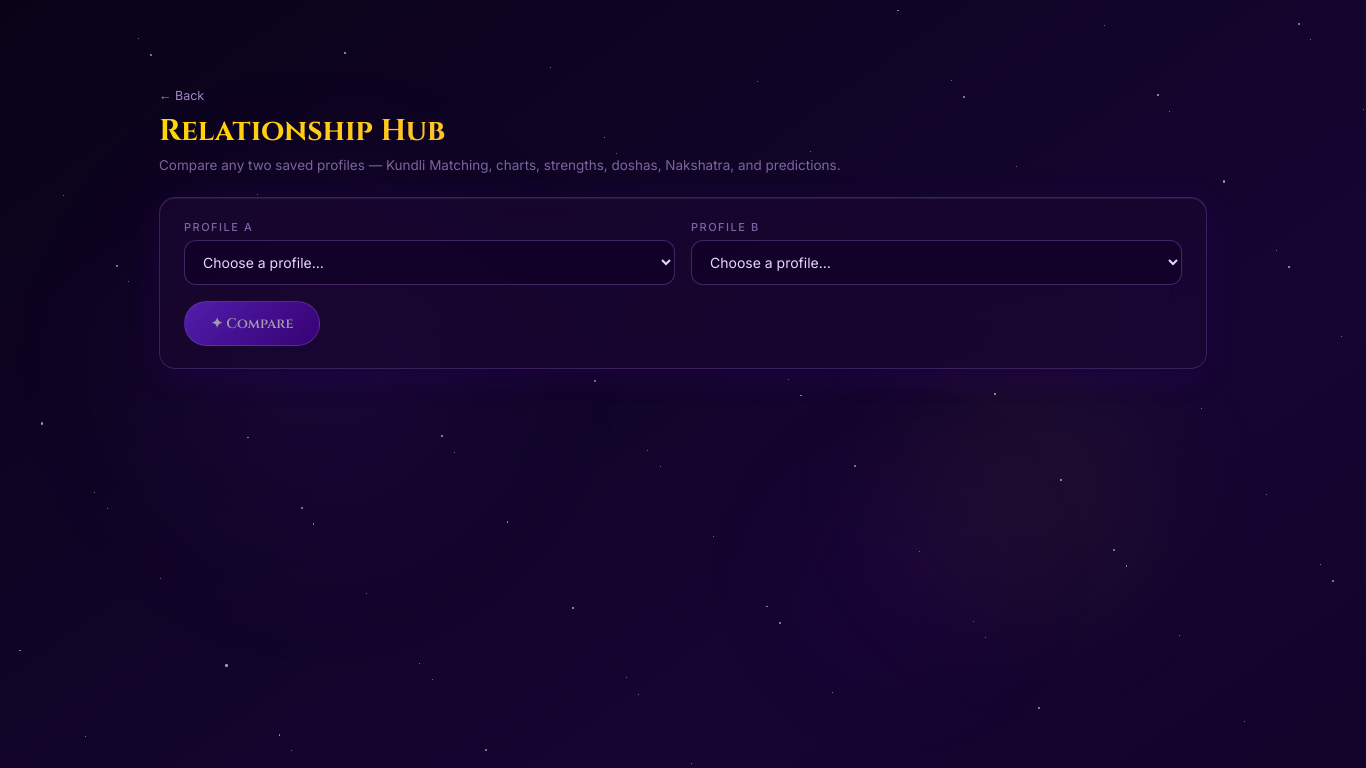
RelationshipHubPage › shows a friendly error state when the comparison request fails
Select "Ramesh Sharma (Father)" in the dropdown named "Profile A" at (430, 262), box [184,240,675,285]
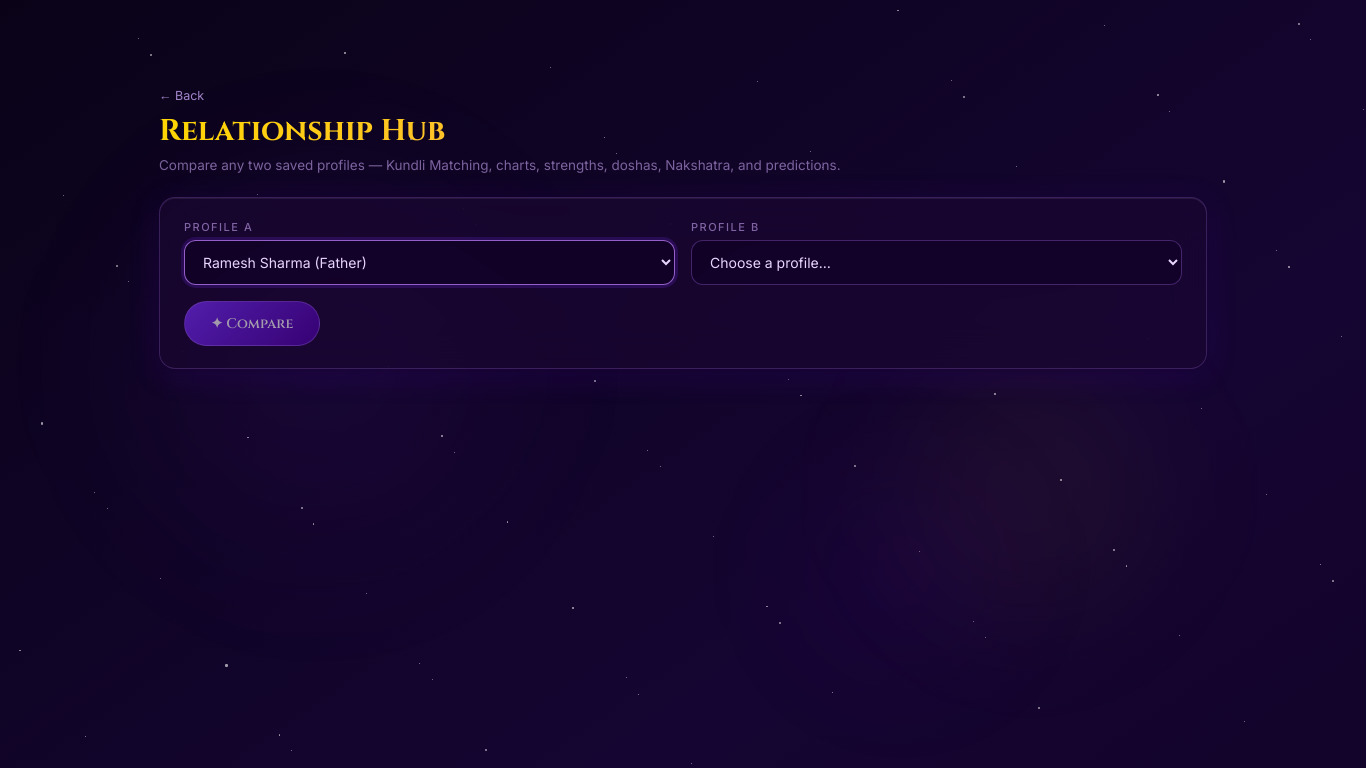
Select "Sunita Sharma (Mother)" in the dropdown named "Profile B" at (936, 262), box [691,240,1182,285]
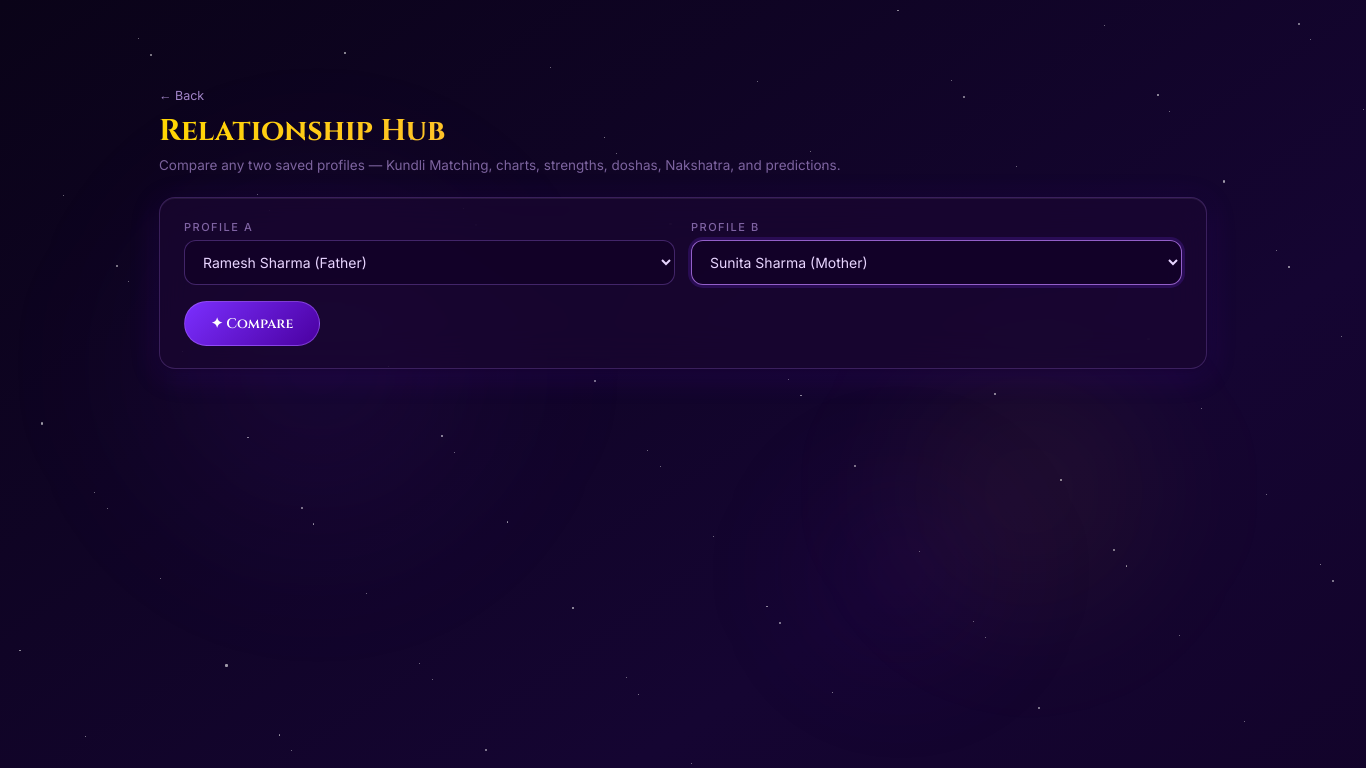
Click the button "✦ Compare".
click(252, 324)  # box [184,301,320,346]
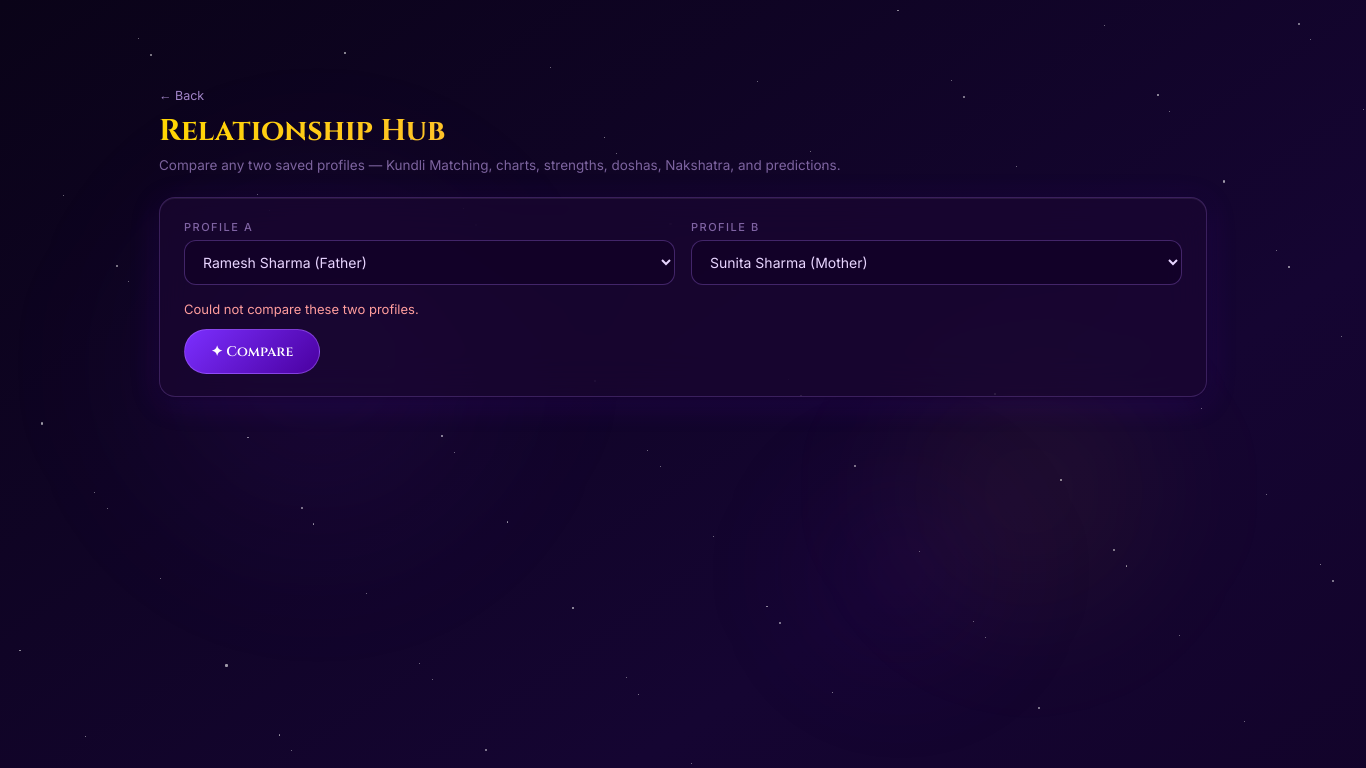
Expected: the text "Could not compare these two profiles." is shown, [184,301,419,317]
